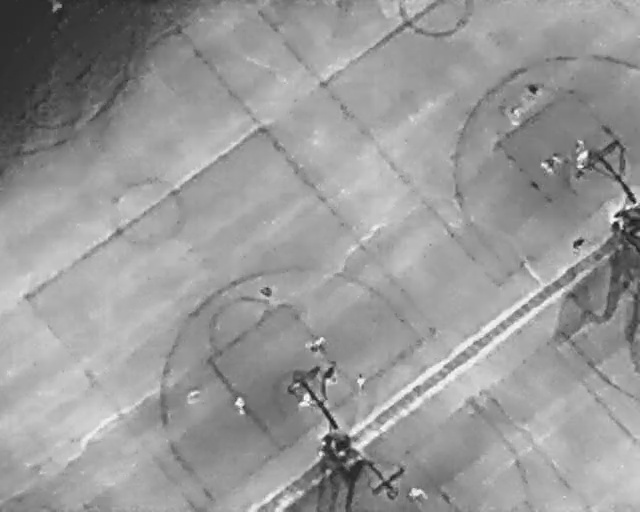Person: (300, 331, 329, 357), (536, 153, 559, 176), (573, 145, 592, 172), (182, 386, 205, 407), (230, 395, 249, 418), (407, 484, 430, 502), (568, 234, 586, 256), (298, 390, 317, 410), (525, 79, 543, 97), (572, 137, 588, 155), (325, 364, 338, 386), (510, 105, 521, 125), (355, 373, 367, 391), (551, 150, 563, 164), (259, 285, 273, 297)
